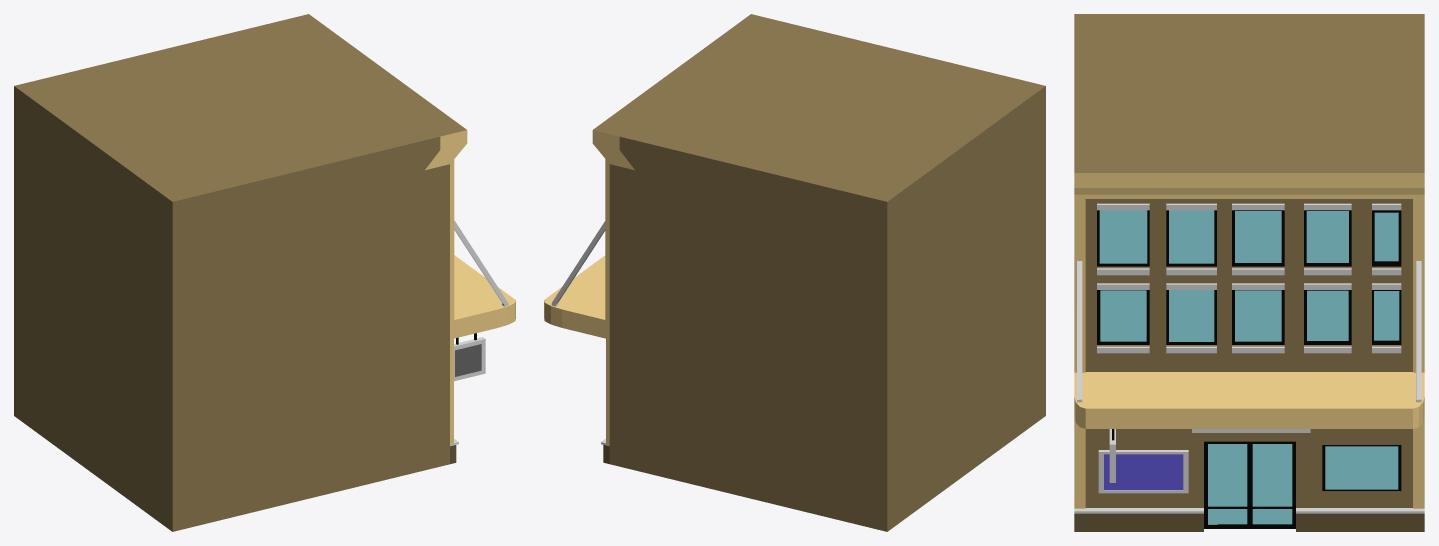
File: Sandard building 2.fbx
3 views of the same model, side by side, from view 1: azimuth 30°, elevation 25°; view 2: azimuth 150°, elevation 25°; view 3: azimuth 270°, elevation 25° (orthographic). The views are drawn at different scales.
Parts seen in each view (by area): view 1: Cube.001, Cube.023, Cube; view 2: Cube.001, Cube.002; view 3: Cube.001, Cube, Cube.002.
Part boxes in pixels (box(x1,y1,x2,y2)): Cube.001: box(14, 14, 515, 531); Cube.023: box(454, 333, 485, 381); Cube: box(454, 220, 508, 306); Cube.001: box(544, 14, 1045, 531); Cube.002: box(551, 221, 605, 306); Cube.001: box(1074, 14, 1424, 531); Cube: box(1076, 261, 1082, 402); Cube.002: box(1416, 261, 1421, 402).
Bounding box in the file's own units: 2668 × 2414 × 2102.
